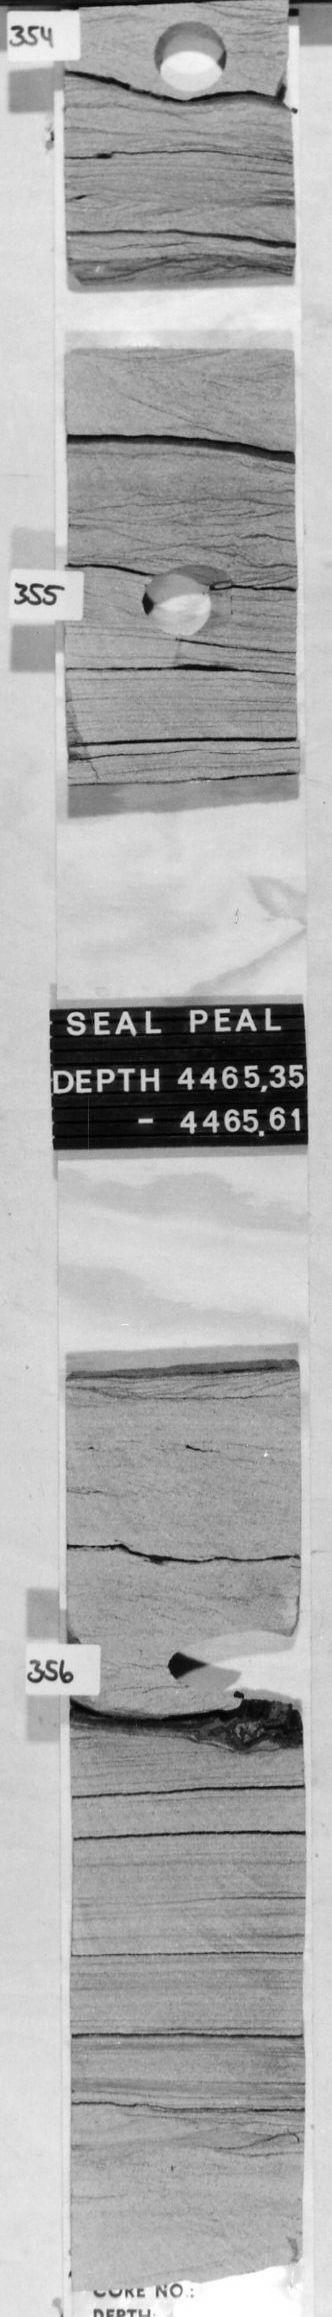hplug: (134, 560, 241, 644), (148, 18, 233, 93)
scal: (62, 248, 297, 371)
